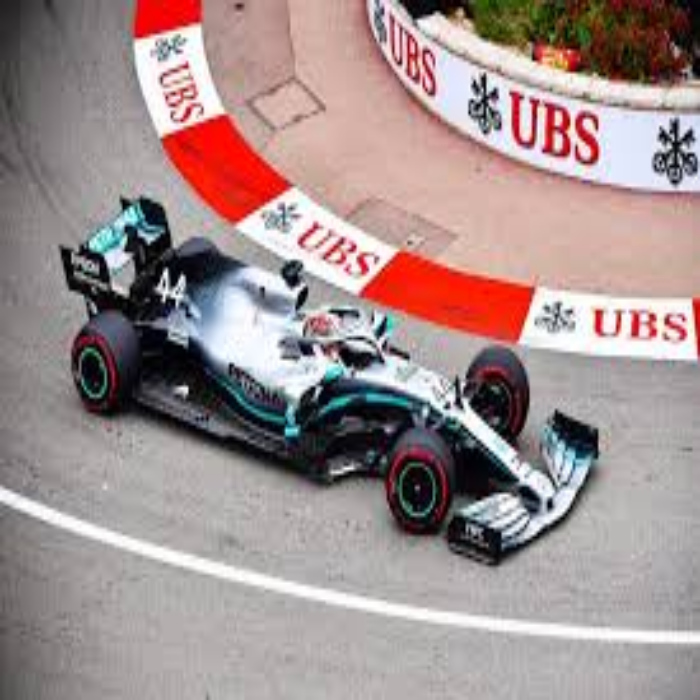f1_car: (45, 179, 626, 591)
